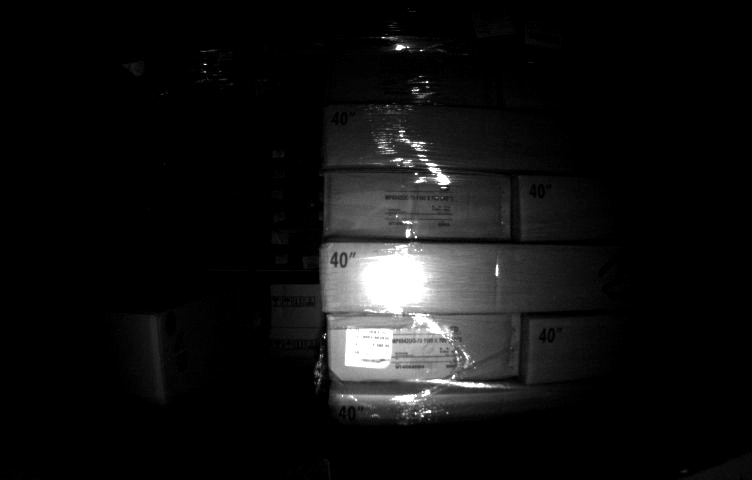True Barcode: (345, 324, 395, 367)
